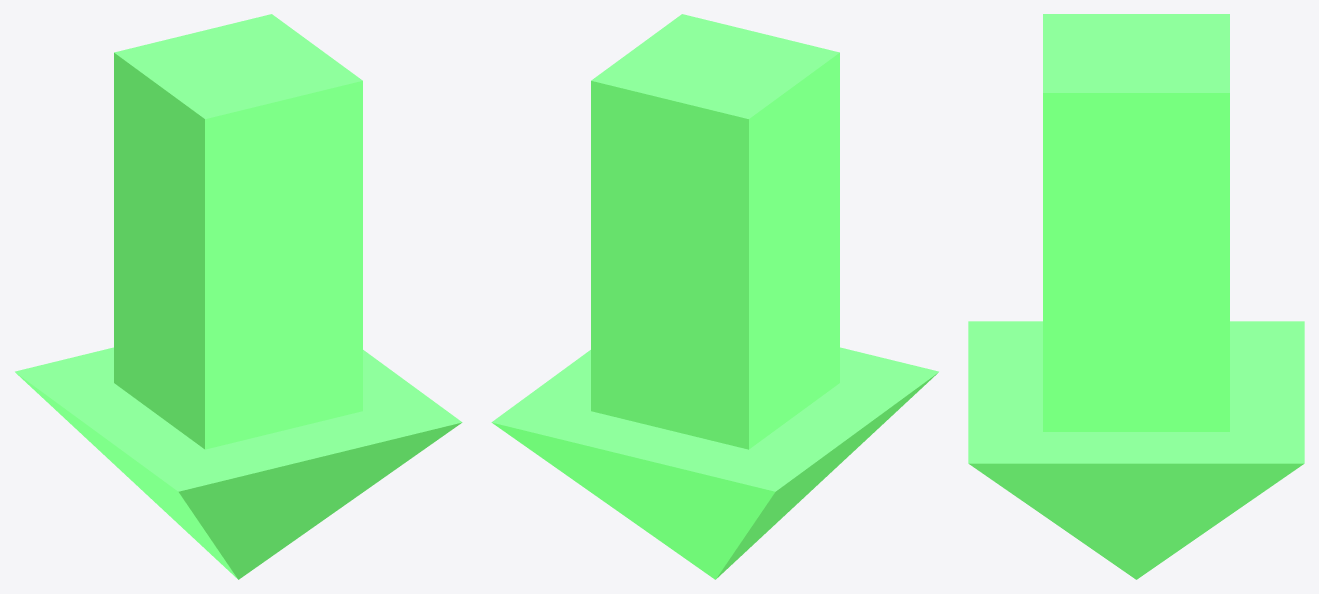
The model's file is arrow.glb.
3 renders of one model, left to right at view 1: azimuth 30°, elevation 25°; view 2: azimuth 150°, elevation 25°; view 3: azimuth 270°, elevation 25°, orthographic. The views are drawn at different scales.
Visible parts, largest first — view 1: Arrow; view 2: Arrow; view 3: Arrow.
Part boxes in pixels (bbox=[...]): Arrow: bbox=[15, 14, 462, 579]; Arrow: bbox=[491, 14, 938, 579]; Arrow: bbox=[968, 14, 1304, 579].
Size of the model in its own units: 1.8 by 3.11 by 1.8.
